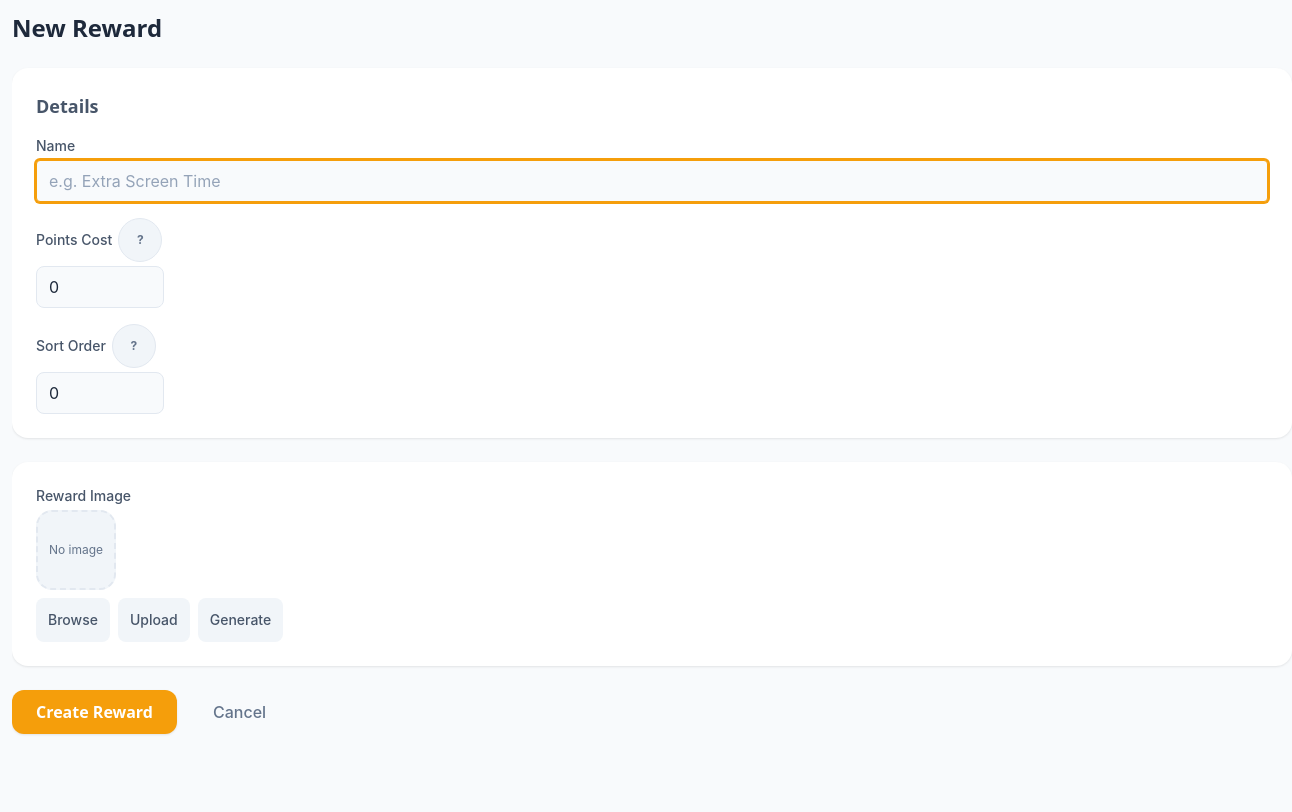
Test: AdminRewardForm › disables submit button during request
Type "Test Reward" into the field labelled "Name" at (652, 181), box [36, 160, 1268, 202]
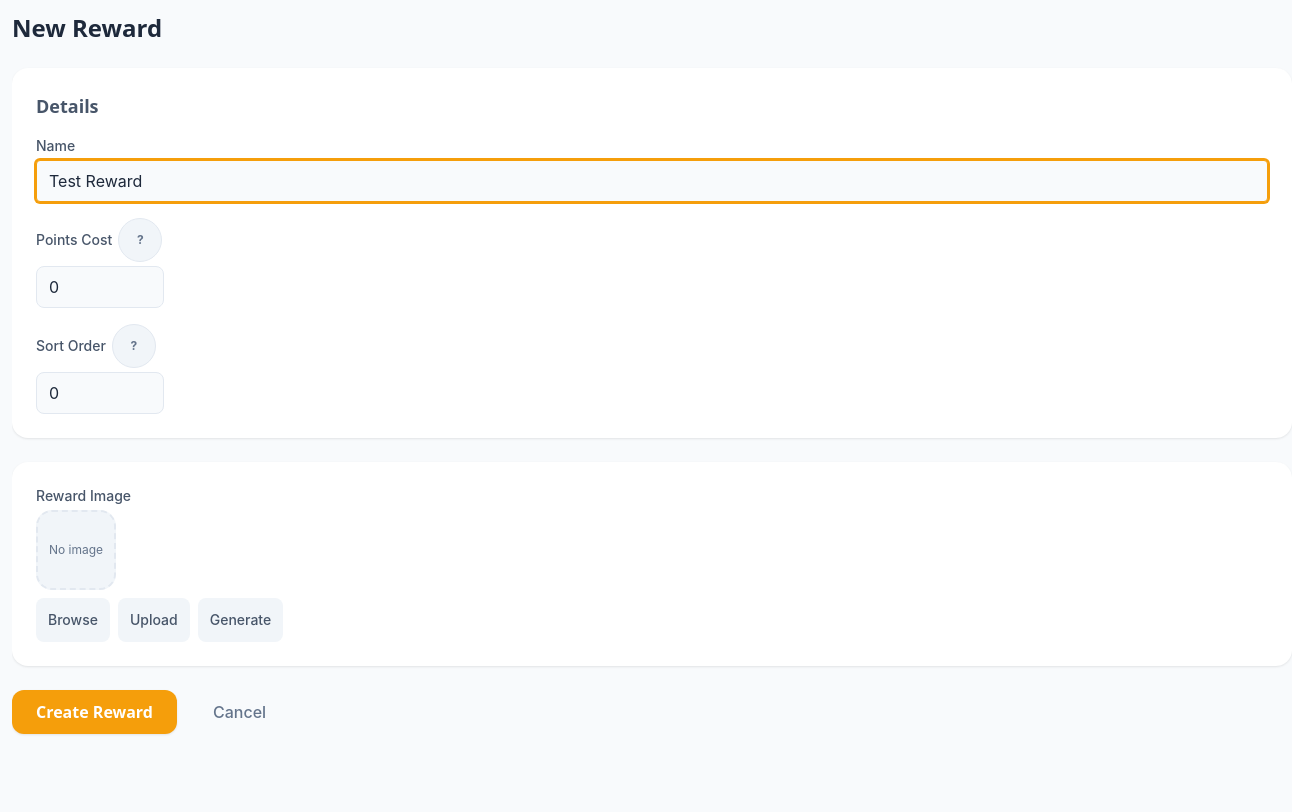
Click the button "Create Reward" at (94, 712), box [12, 690, 177, 734]
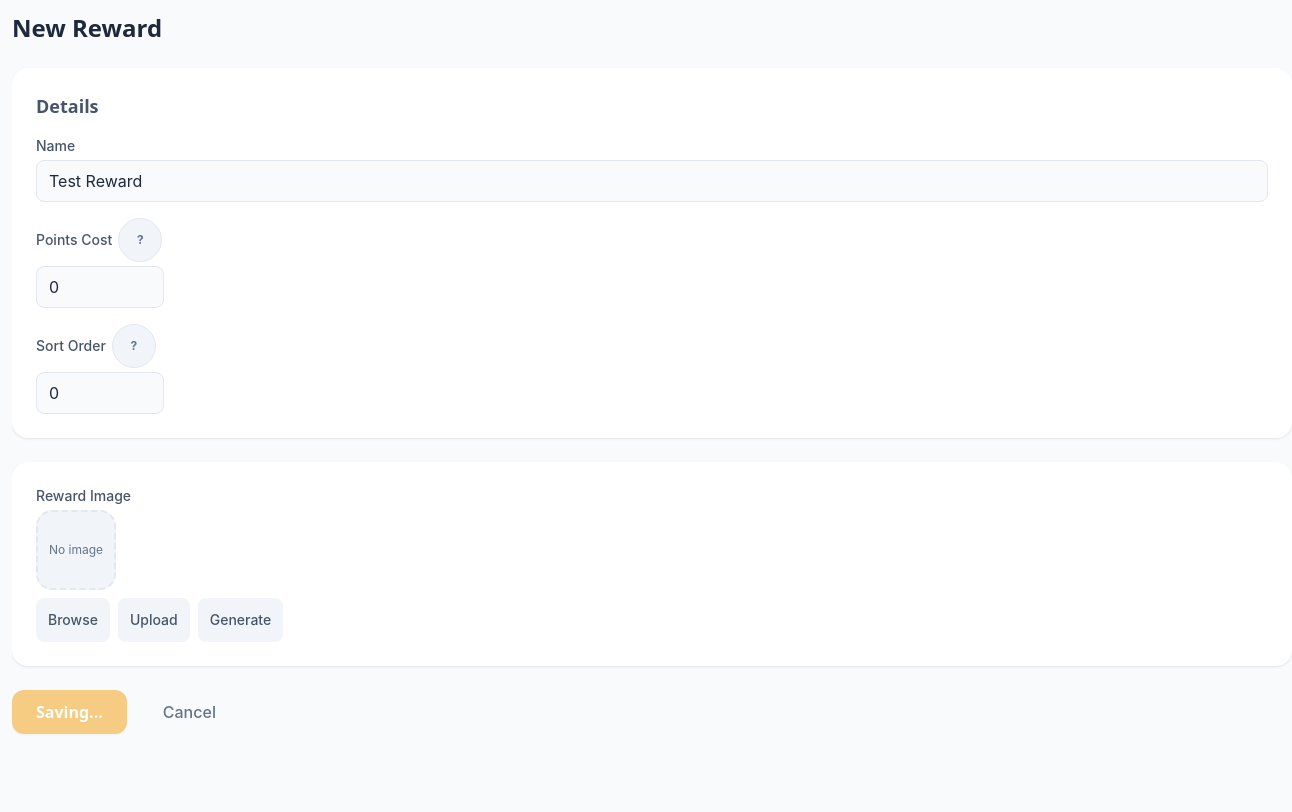
Check: the button "Saving..." is disabled, box [12, 690, 127, 734]
